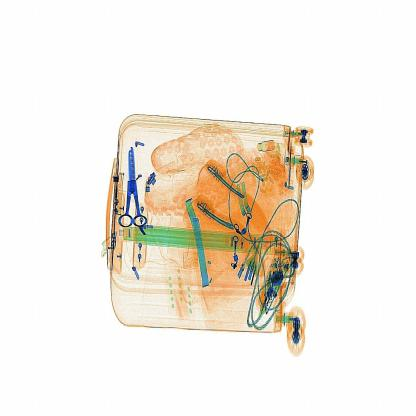gun: (110, 134, 155, 238)
